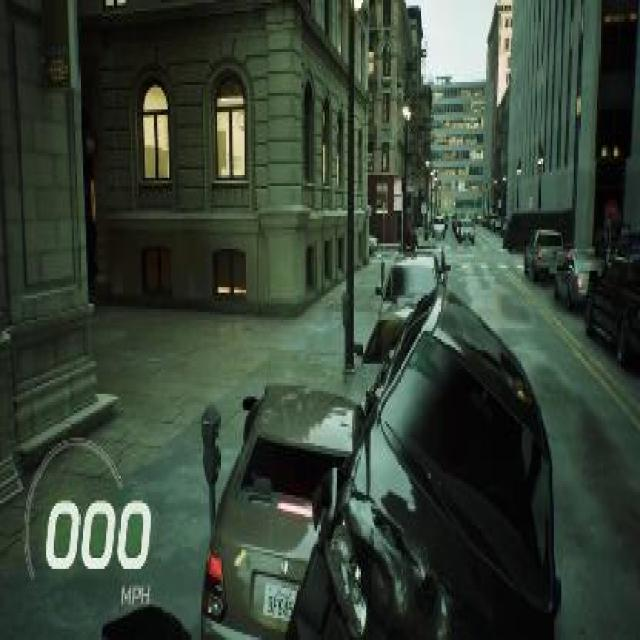accident: (194, 276, 563, 638)
